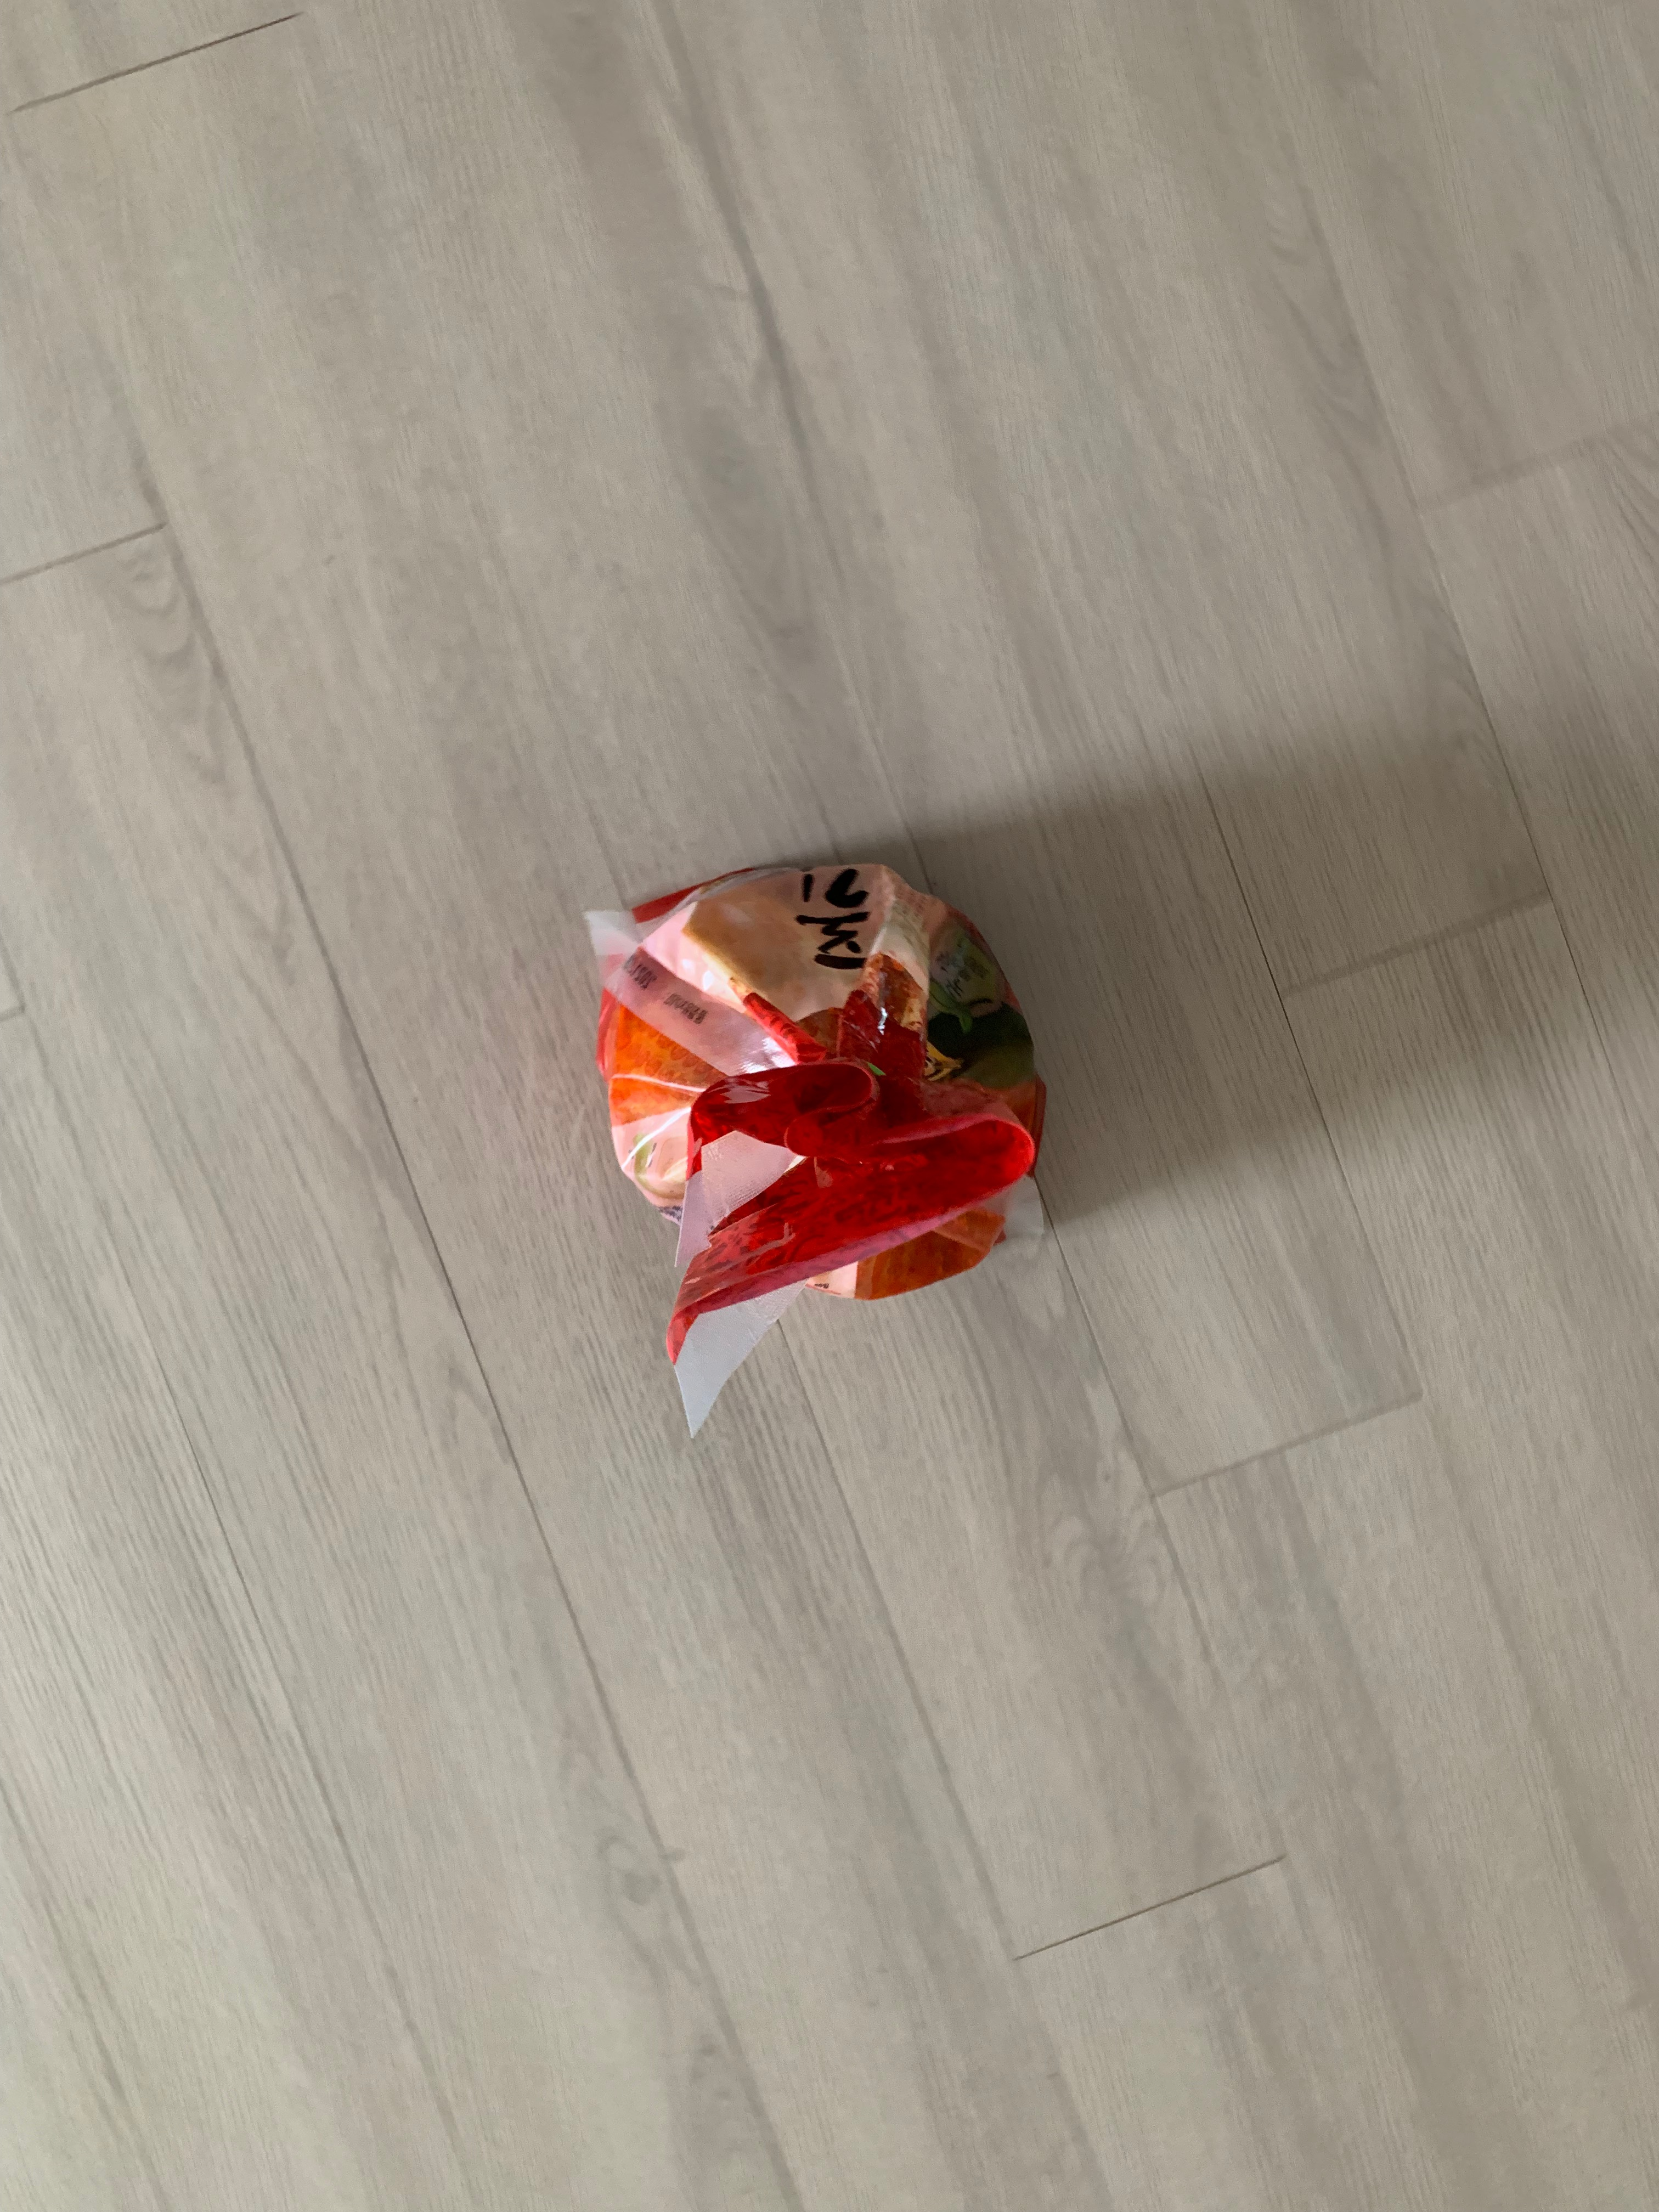kimchi: (594, 862, 1046, 1306)
